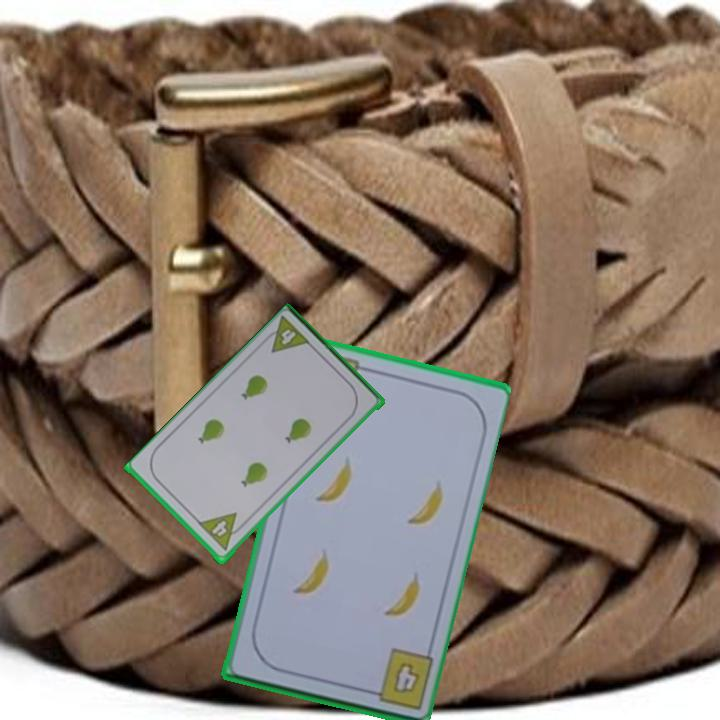4b: (391, 658, 423, 695)
4p: (197, 510, 237, 543), (277, 326, 299, 349)
